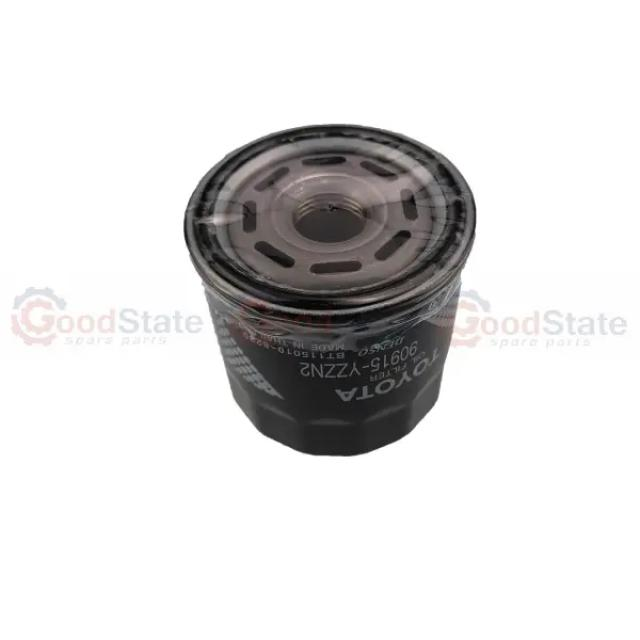oil_filter: (179, 105, 481, 462)
